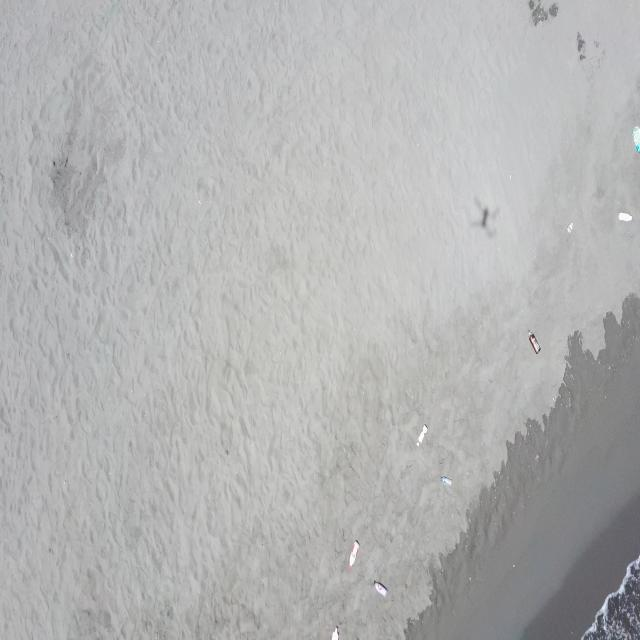Garbage: (348, 540, 359, 567), (528, 331, 540, 352), (416, 424, 427, 446), (373, 580, 387, 595), (632, 125, 639, 151), (617, 212, 631, 220), (440, 475, 452, 483), (331, 626, 337, 639), (567, 221, 572, 232)
